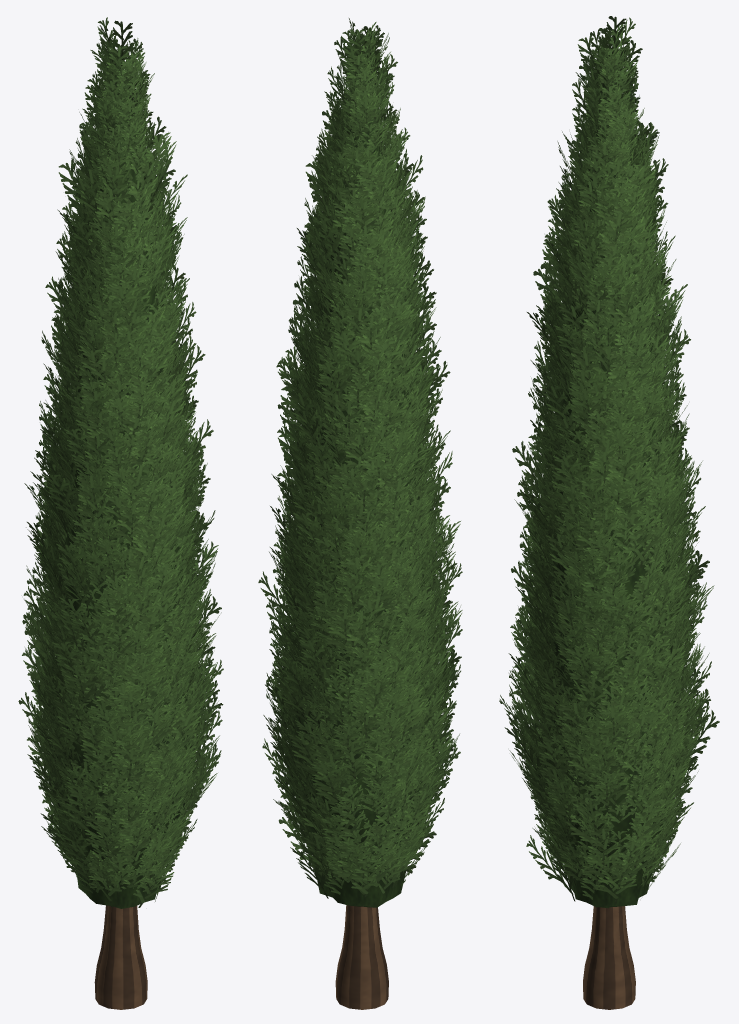
3 renders of one model, left to right at view 1: azimuth 30°, elevation 25°; view 2: azimuth 150°, elevation 25°; view 3: azimuth 270°, elevation 25°, orthographic.
Visible parts, largest first — view 1: leaves_0, leaves_1, CrownCore, Trunk; view 2: leaves_0, leaves_1, CrownCore, Trunk; view 3: leaves_0, leaves_1, CrownCore, Trunk.
Boxes of the visible parts, x1,y1,x2,y2 form: leaves_0: [18, 367, 223, 907]; leaves_1: [24, 17, 213, 624]; CrownCore: [54, 78, 191, 908]; Trunk: [94, 905, 147, 1009]; leaves_0: [258, 355, 462, 898]; leaves_1: [269, 18, 460, 613]; CrownCore: [288, 67, 430, 907]; Trunk: [335, 905, 388, 1009]; leaves_0: [499, 356, 719, 907]; leaves_1: [512, 16, 702, 624]; CrownCore: [544, 75, 678, 908]; Trunk: [583, 906, 635, 1009].
Size of the model in its own units: 1.39 by 7.05 by 1.49.
3 materials, 3 textured.
